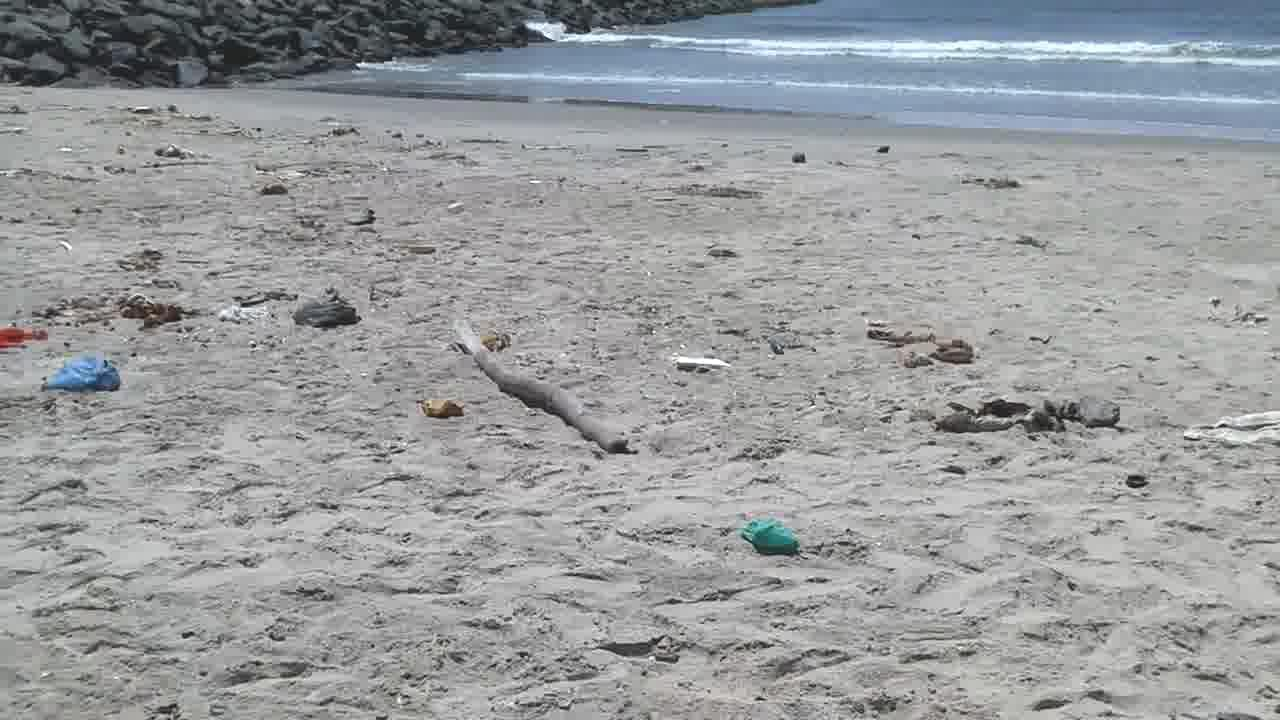obj: (450, 318, 630, 452), (868, 326, 976, 372), (1175, 406, 1279, 449), (941, 399, 1062, 434), (53, 352, 124, 395), (120, 295, 197, 333), (293, 290, 366, 330), (1060, 394, 1122, 427), (743, 518, 803, 550), (415, 397, 466, 422), (1, 326, 45, 349), (477, 328, 511, 356), (677, 357, 731, 369)
sand/background: (1, 0, 1279, 150)
